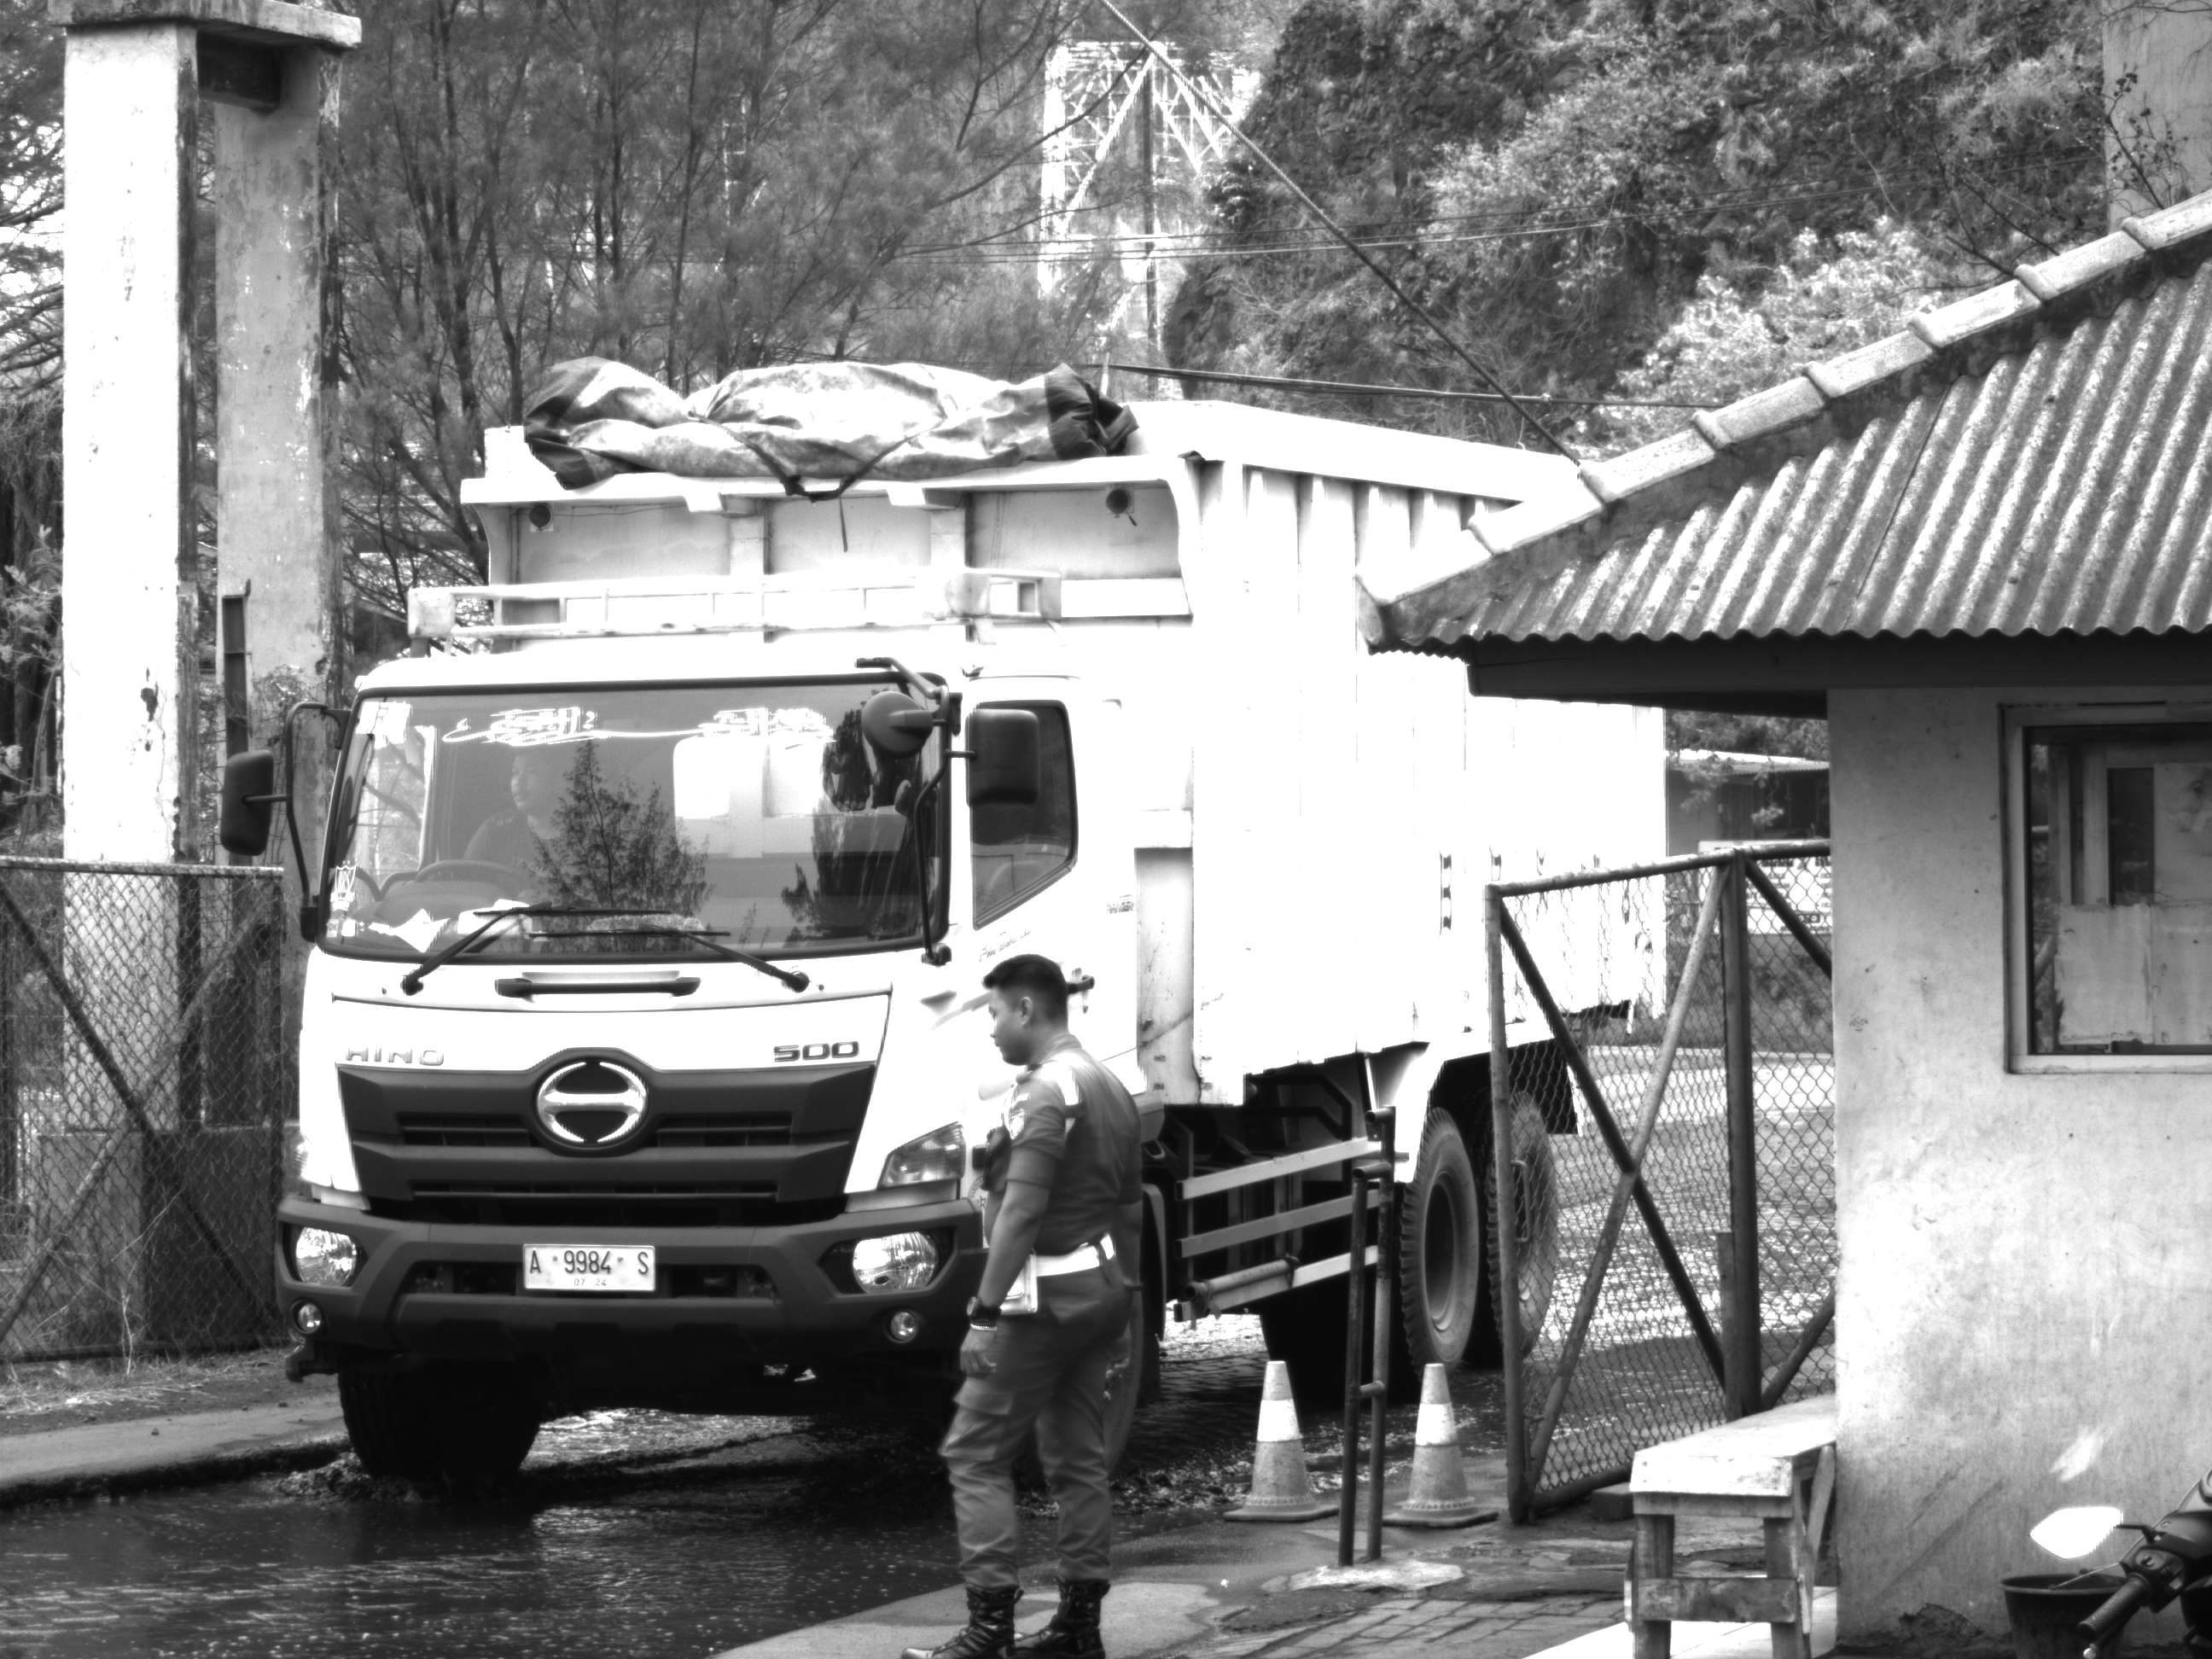day_truck_front: (265, 569, 1183, 1488)
plate: (520, 1241, 656, 1295)
